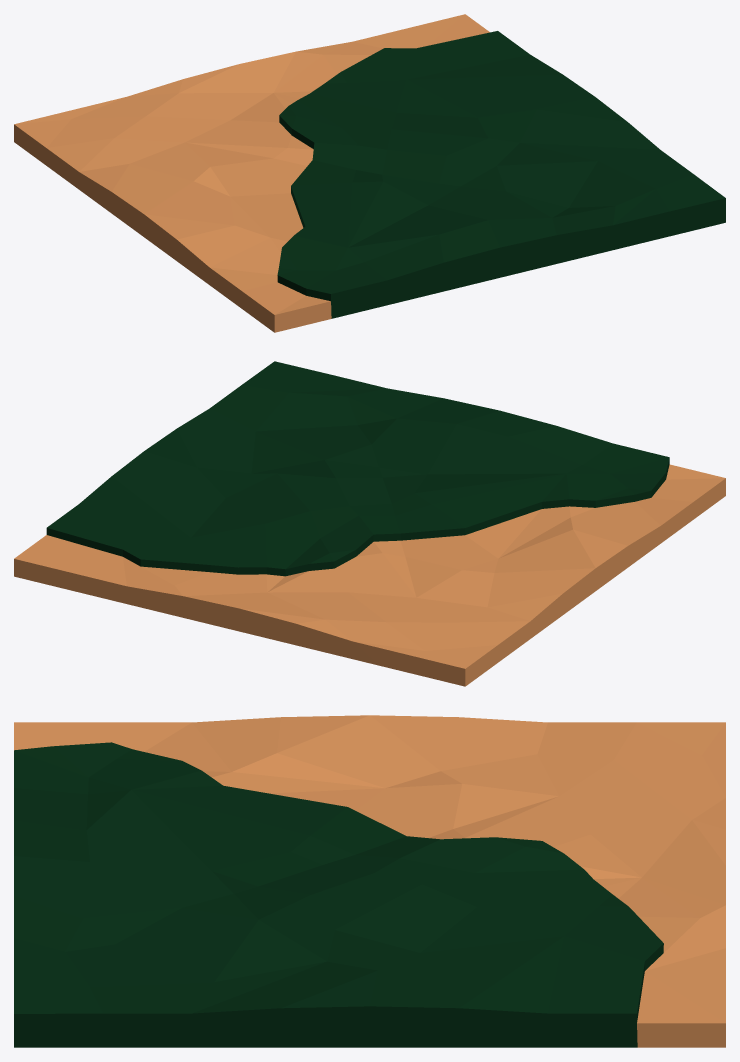
File: Road_green_3.FBX
The picture shows the model from 3 angles, top to bottom: view 1: azimuth 30°, elevation 25°; view 2: azimuth 150°, elevation 25°; view 3: azimuth 270°, elevation 25°; orthographic projection. The views are drawn at different scales.
Visible parts, largest first — view 1: Road_green_3; view 2: Road_green_3; view 3: Road_green_3.
Boxes of the visible parts, x1,y1,x2,y2 form: Road_green_3: (14, 14, 725, 332); Road_green_3: (14, 361, 725, 686); Road_green_3: (14, 715, 725, 1047).
Size of the model in its own units: 1.5 by 0.1065 by 1.5.
Materials: 1 (1 with a texture image).
